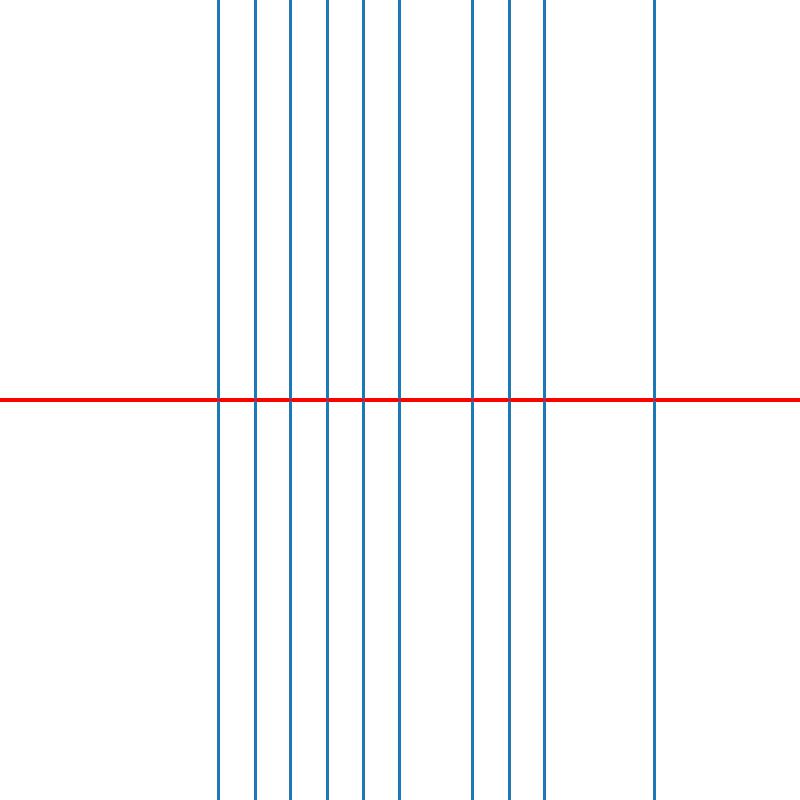root: (650, 396, 658, 404), (541, 396, 549, 404), (250, 396, 258, 404), (360, 396, 367, 404), (214, 396, 221, 404), (396, 396, 403, 404), (469, 396, 476, 404), (323, 396, 330, 404), (287, 396, 294, 404), (505, 396, 512, 404)
